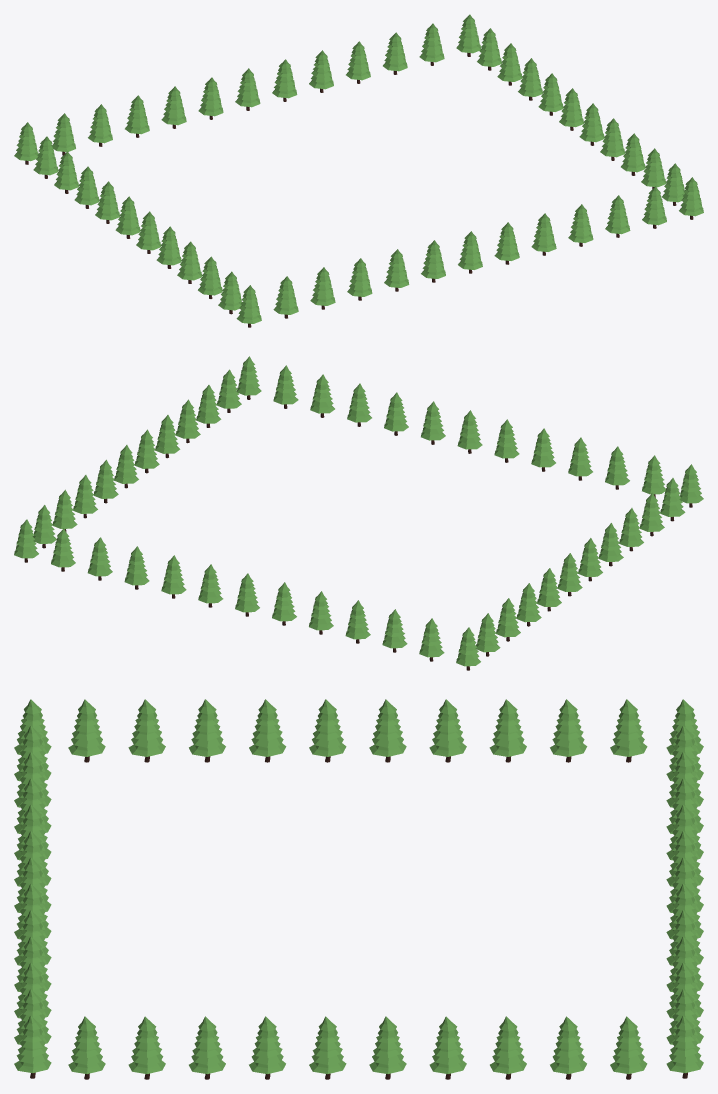
The model's file is DecoBosque.obj.
3 views of the same model, one above another, from view 1: azimuth 30°, elevation 25°; view 2: azimuth 150°, elevation 25°; view 3: azimuth 270°, elevation 25° (orthographic). The views are drawn at different scales.
Visible parts, largest first — view 1: Arbre01_Arbre03_0.002, Arbre01_Arbre03_0.005, Arbre01_Arbre03_0.007, Arbre01_Arbre03_0.001; view 2: Arbre01_Arbre03_0.002, Arbre01_Arbre03_0.005, Arbre01_Arbre03_0.007, Arbre01_Arbre03_0.001; view 3: Arbre01_Arbre03_0.007, Arbre01_Arbre03_0.001, Arbre01_Arbre03_0.005, Arbre01_Arbre03_0.002.
Part boxes in pixels (<box>): Arbre01_Arbre03_0.002: <box>14,14,481,164</box>; Arbre01_Arbre03_0.005: <box>236,177,703,327</box>; Arbre01_Arbre03_0.007: <box>33,136,242,314</box>; Arbre01_Arbre03_0.001: <box>477,28,684,205</box>; Arbre01_Arbre03_0.002: <box>14,519,480,670</box>; Arbre01_Arbre03_0.005: <box>236,356,703,507</box>; Arbre01_Arbre03_0.007: <box>475,478,685,656</box>; Arbre01_Arbre03_0.001: <box>33,369,241,548</box>; Arbre01_Arbre03_0.007: <box>68,699,647,762</box>; Arbre01_Arbre03_0.001: <box>68,1016,647,1079</box>; Arbre01_Arbre03_0.005: <box>14,699,51,1078</box>; Arbre01_Arbre03_0.002: <box>666,699,703,1078</box>.
Size of the model in its own units: 84.36 by 7.35 by 73.94.
4 materials, 4 textured.
